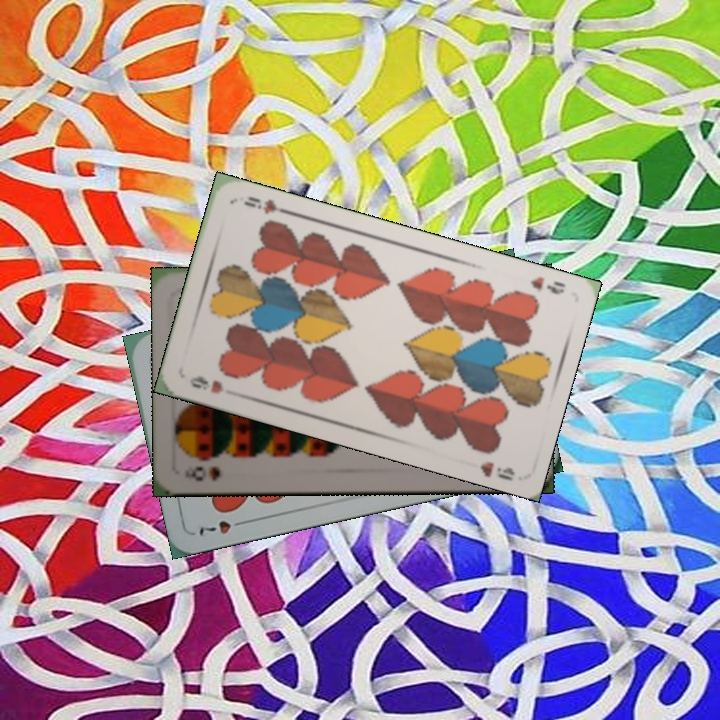H7: (195, 515, 251, 539)
H9: (526, 272, 568, 298), (185, 371, 226, 397)
S8: (187, 462, 223, 483)
